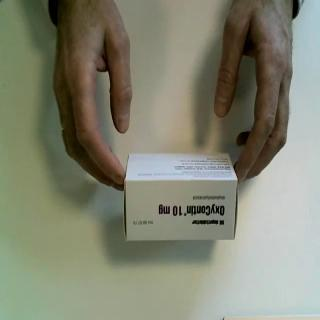oxynorm10mg: (123, 151, 239, 243)
